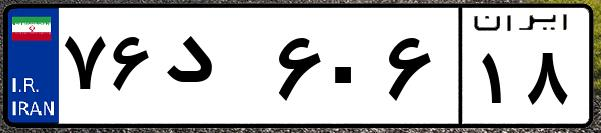0: (330, 28, 385, 110)
1: (475, 38, 525, 113)
6: (270, 28, 330, 110), (385, 28, 445, 110), (110, 28, 158, 98)
7: (57, 26, 110, 100)
8: (525, 38, 570, 115)
د: (158, 20, 270, 120)
